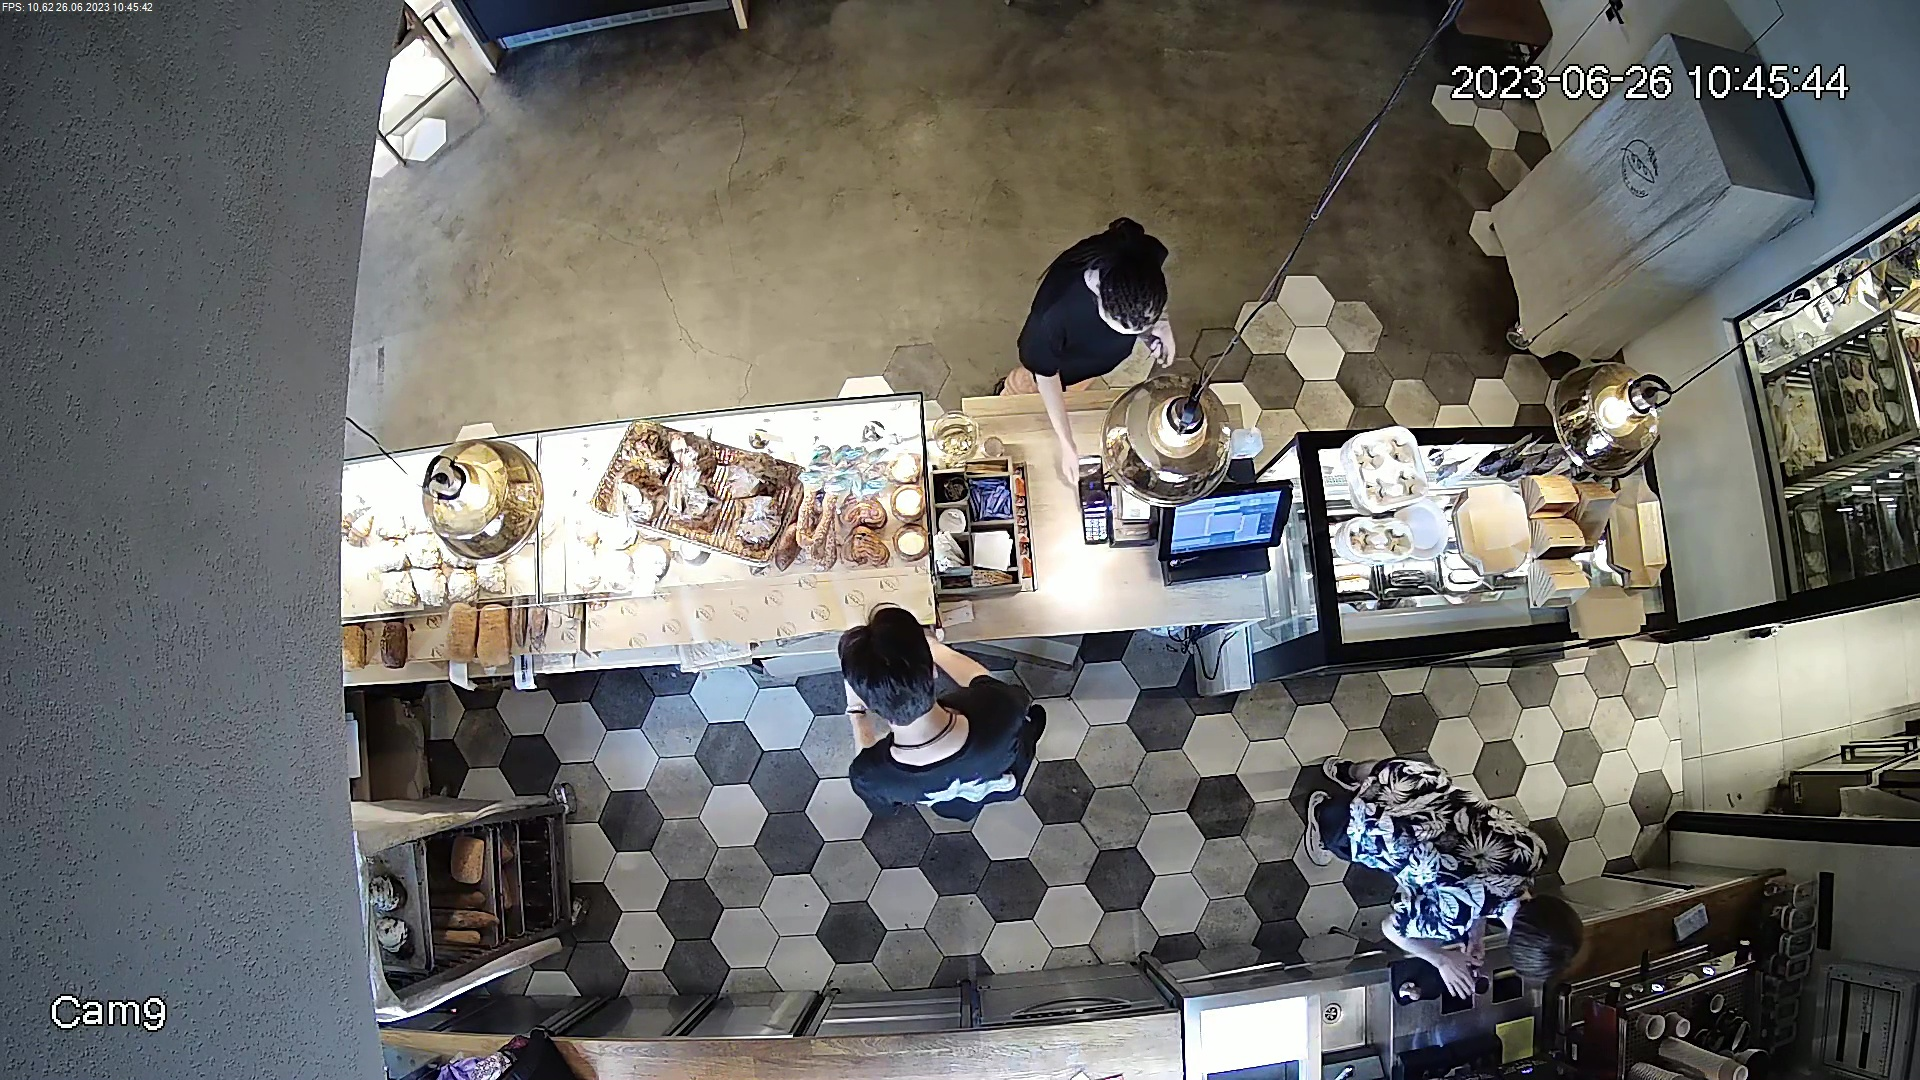person: (1281, 733, 1603, 1000), (972, 185, 1203, 488), (795, 603, 1059, 828)
terminal: (1073, 434, 1113, 546)
